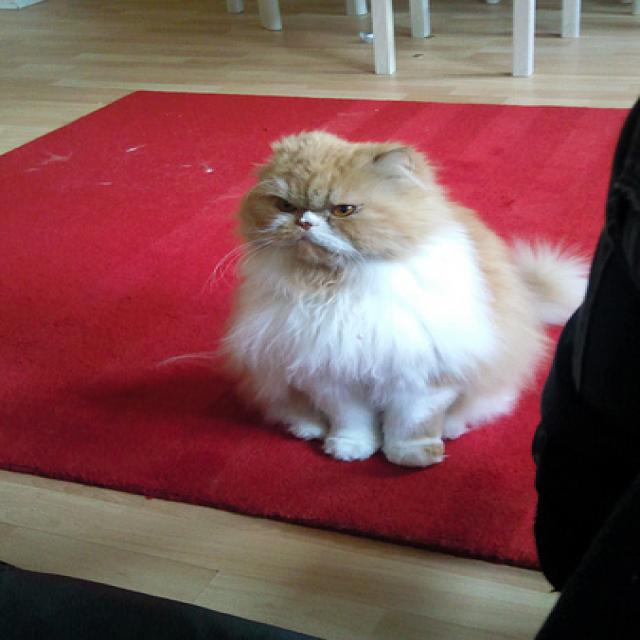Persian: (224, 126, 592, 474)
